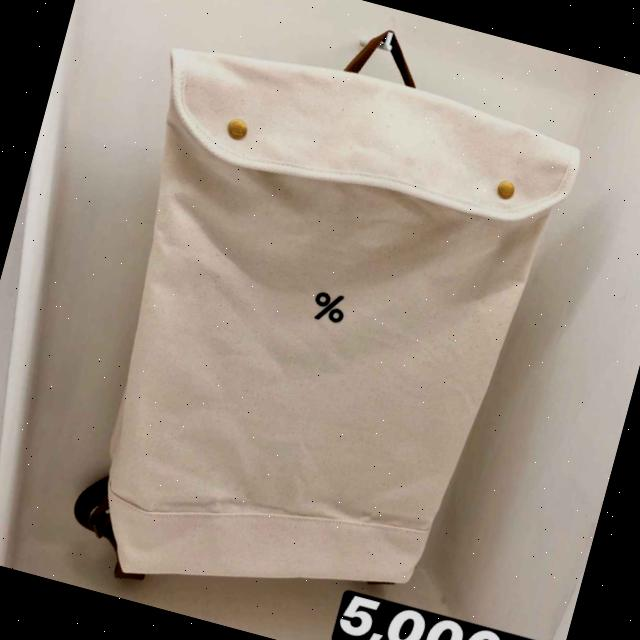Handbag: (43, 0, 581, 640)
